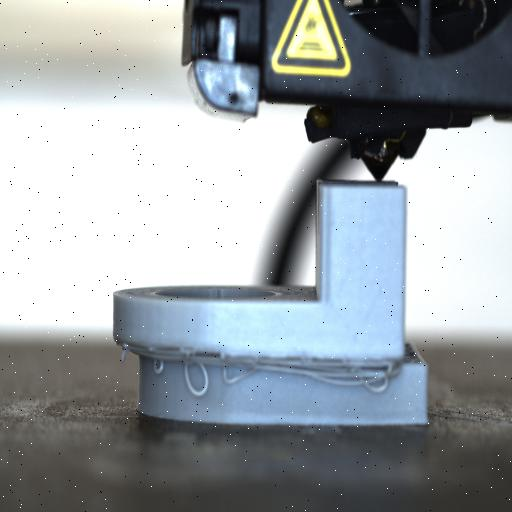layer_shift: (112, 336, 432, 372)
